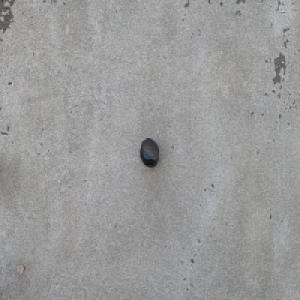FuelCap: (140, 137, 159, 167)
